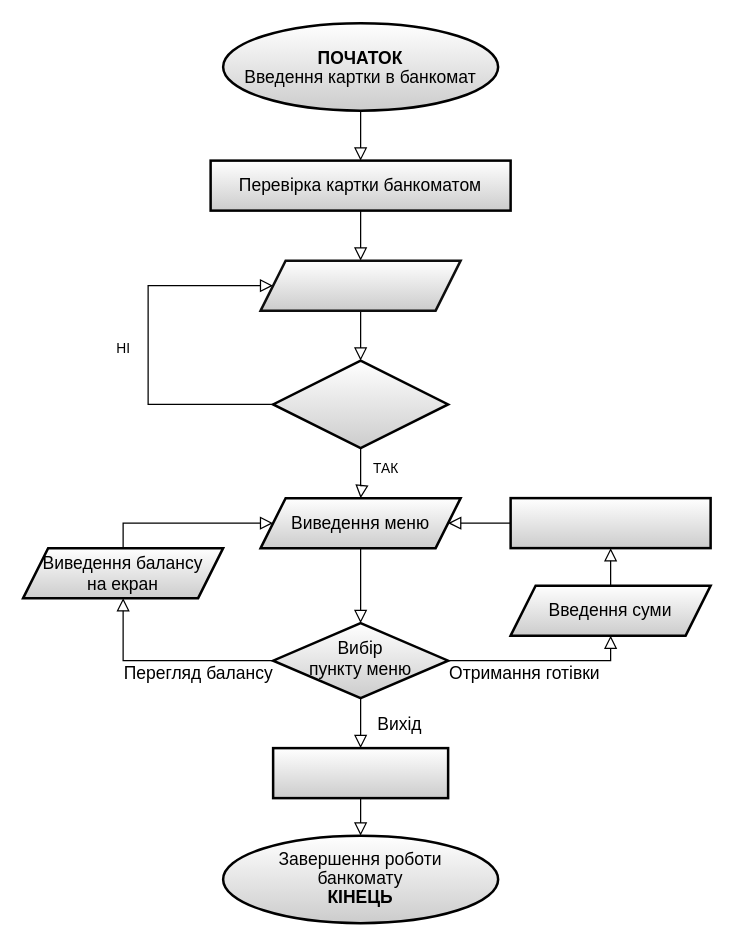
This 733x945 diagram has some shape labels left out. Each missing label, with the centre of its shape:
Введення PIN-коду: the point at 360,285
Видача готівки: the point at 610,522
Коректний PIN-код?: the point at 360,404
Повернення картки: the point at 360,772
